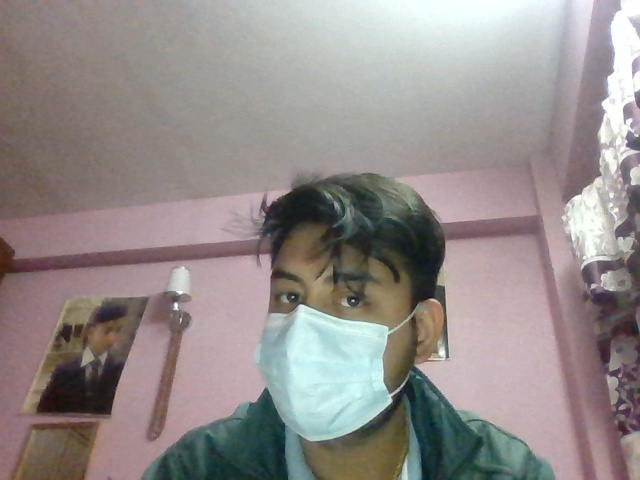mask: (260, 315, 449, 434)
